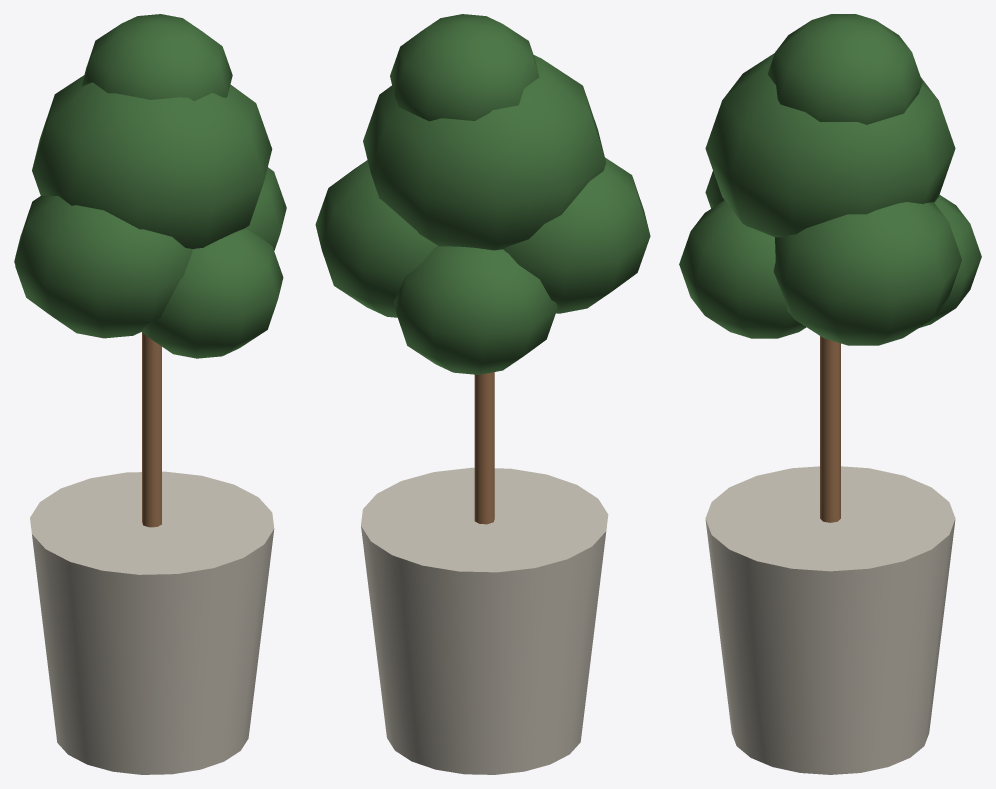
The model's file is 11_roslina.glb.
The picture shows the model from 3 angles, left to right: view 1: azimuth 30°, elevation 25°; view 2: azimuth 150°, elevation 25°; view 3: azimuth 270°, elevation 25°; orthographic projection.
Parts seen in each view (by area): view 1: Liscie, Doniczka, Pien; view 2: Liscie, Doniczka, Pien; view 3: Liscie, Doniczka, Pien.
Part boxes in pixels (x1=…): Liscie: x1=14, y1=14, x2=286, y2=358; Doniczka: x1=30, y1=471, x2=274, y2=774; Pien: x1=142, y1=333, x2=161, y2=527; Liscie: x1=315, y1=14, x2=650, y2=374; Doniczka: x1=361, y1=467, x2=608, y2=774; Pien: x1=474, y1=372, x2=494, y2=524; Liscie: x1=679, y1=14, x2=981, y2=345; Doniczka: x1=705, y1=466, x2=955, y2=774; Pien: x1=820, y1=336, x2=840, y2=522.
Bounding box in the file's own units: 0.4853 × 1.2 × 0.46.
